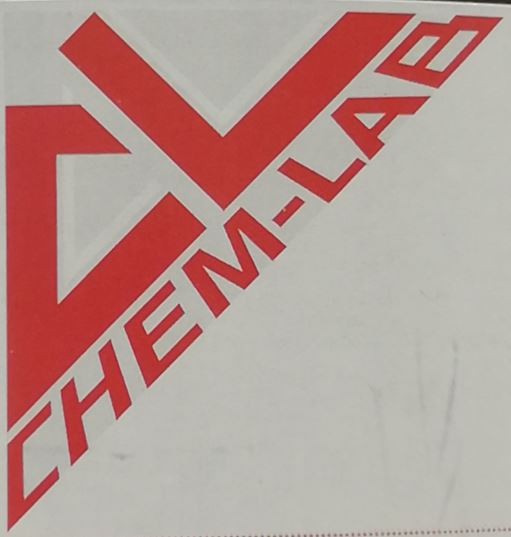ChemLab: (1, 12, 507, 535)
